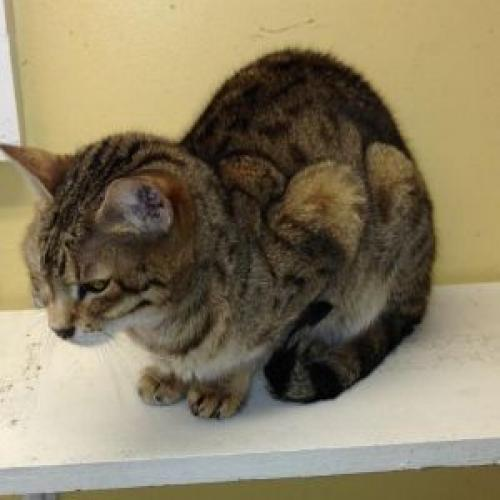cat-face: (1, 131, 201, 358)
